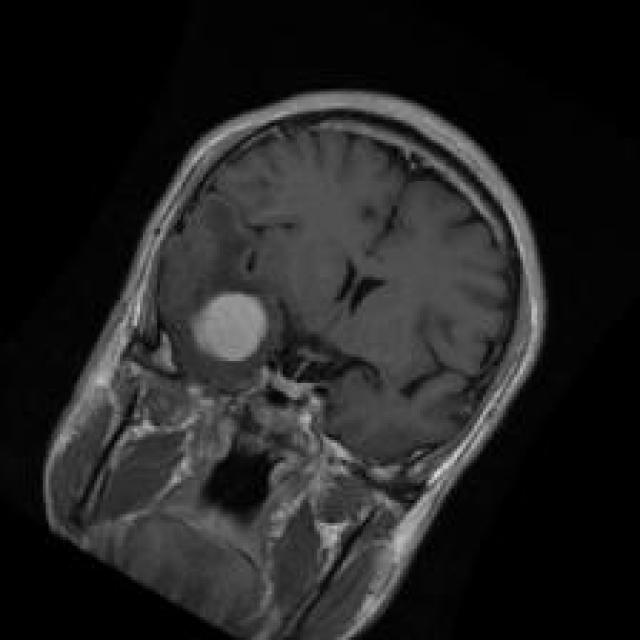meningioma_tumor: (175, 280, 294, 376)
